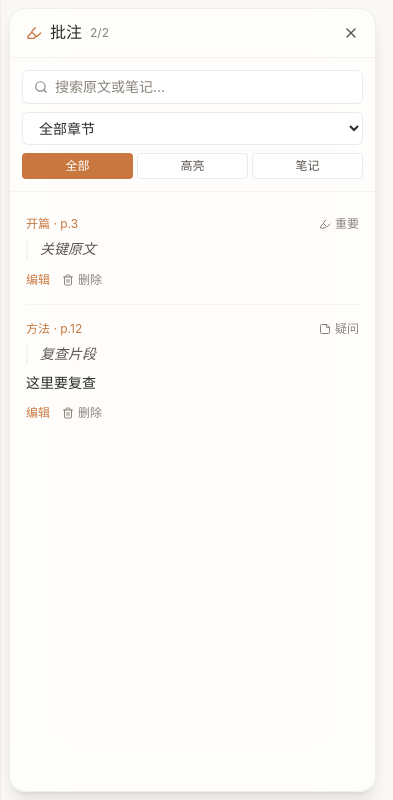
AnnotationPanel › announces delete failures and keeps confirmation available
Click the button with aria-label "删除批注：关键原文". click: click(82, 280)
box: [62,272,102,288]
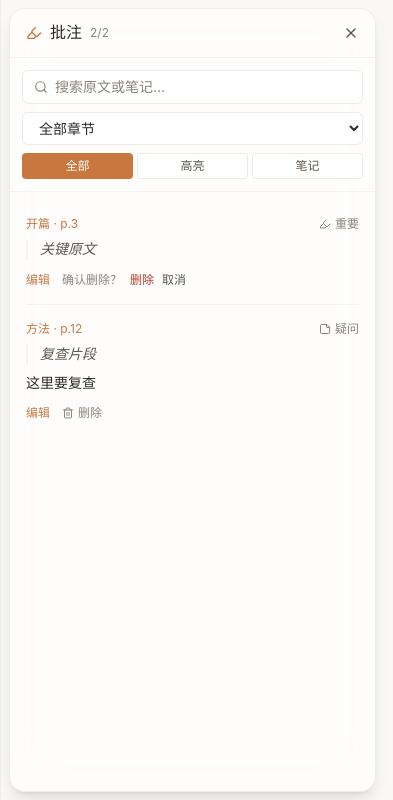
Click the button "删除" next to "确认删除？". click: click(142, 280)
box: [130,272,154,288]
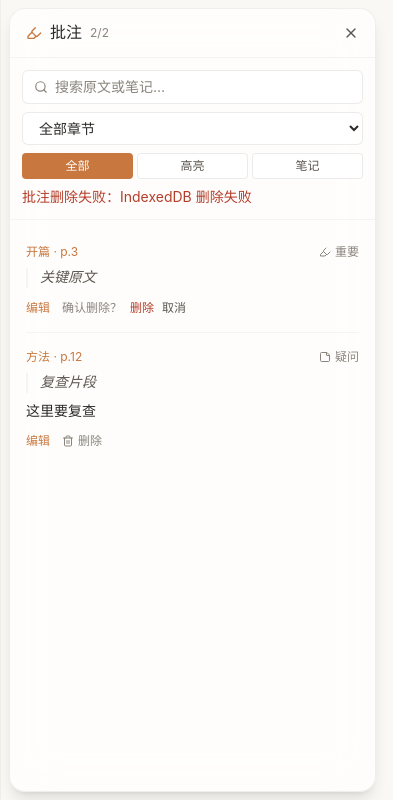
Now the element named "确认删除批注：关键原文" is shown, box [62,300,186,316]
Now the button "删除" next to "确认删除？" is enabled, box [130,300,154,316]
Now the message "批注删除失败：IndexedDB 删除失败" is shown, box [22,188,252,205]
